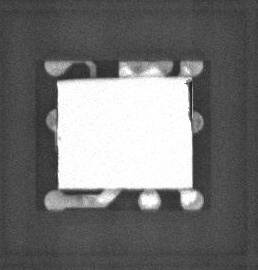DIE_BROKEN: (184, 77, 195, 125)
